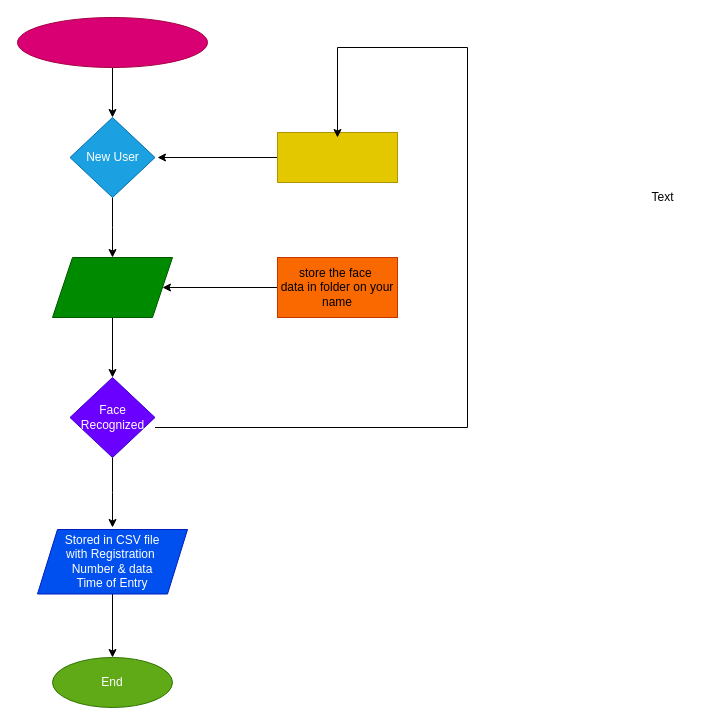
Some shapes in this 705 by 725 pixel diagram are drawn without their labels. The shapes that lost their labels are listed below. From the top down, each one's box as (x1, y1, x2, y2) in pixels, then its label:
(16, 16, 208, 68): start
(276, 132, 398, 182): Give your Photography
(52, 256, 172, 318): Recognize the face
